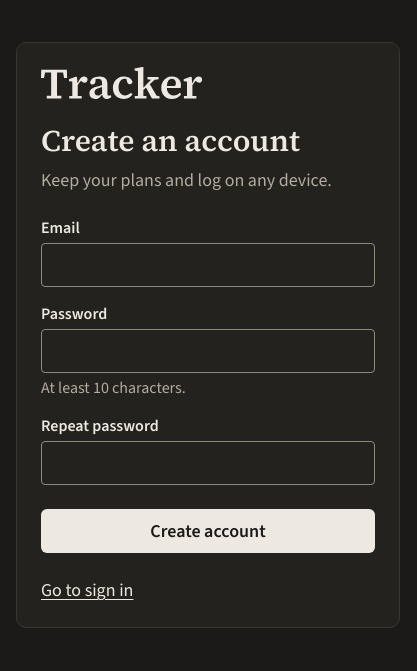
Test: creating an account › explains a taken email where it belongs
Type "new@example.com" into the field with id "signup-email" at (208, 265), box [41,243,375,287]
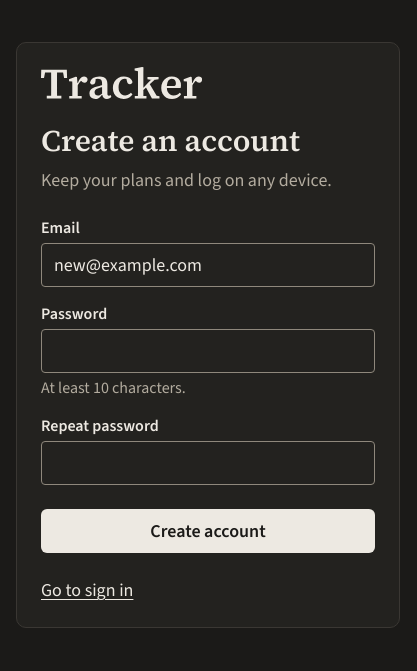
Type "a long new password" into the password field with id "signup-password" at (208, 351), box [41,329,375,373]
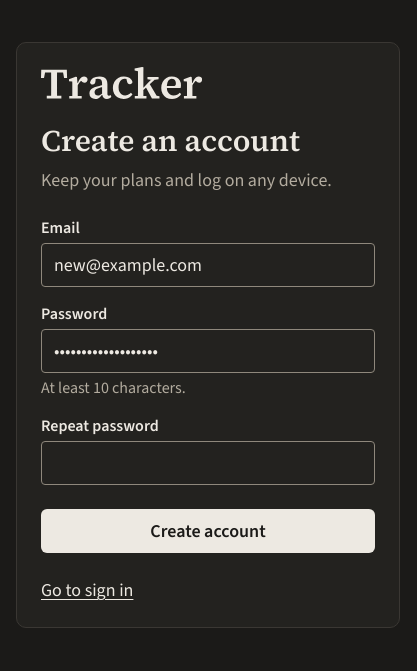
Type "a long new password" into the password field with id "signup-confirm" at (208, 463), box [41,441,375,485]
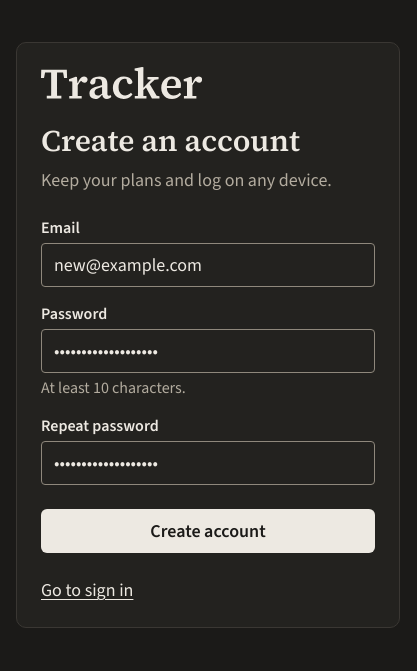
Submit the form, box [41,217,375,553]
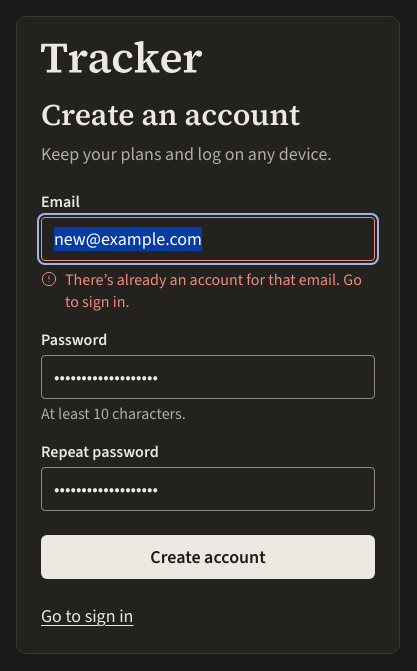
Expected: the heading "Create an account" is shown, [41,94,300,135]
Expected: the message with id "signup-email-error" reads "There’s already an account for that email. Go to sign in.", [65,269,362,312]
Expected: the number of messages is 1, [41,269,375,313]
